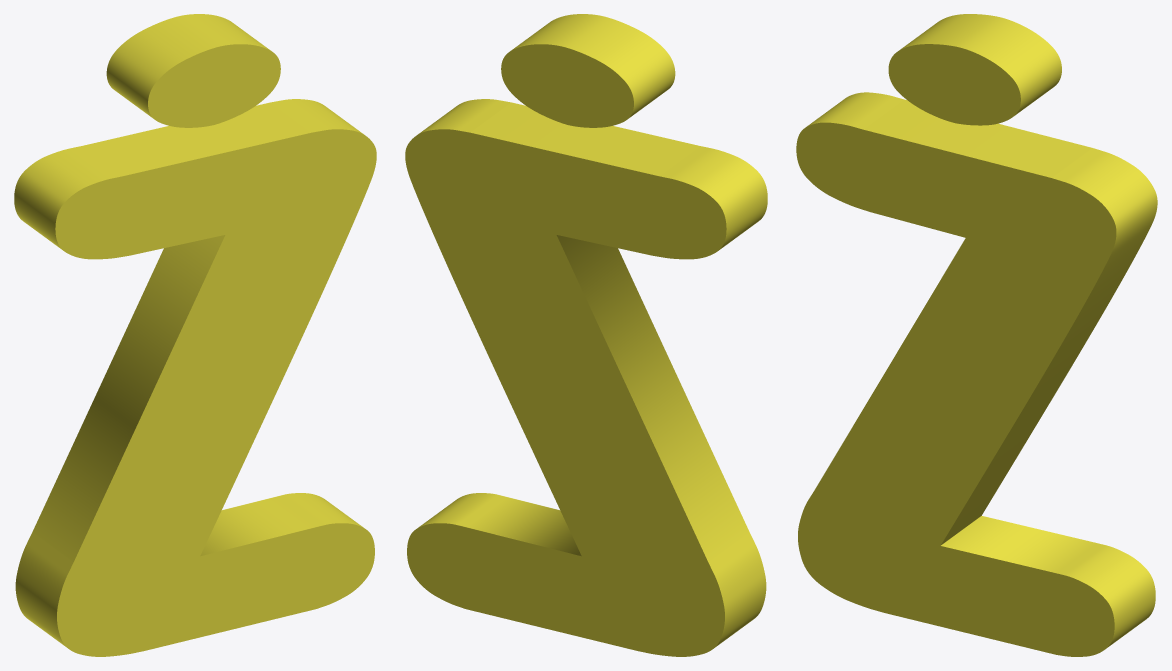
The picture shows the model from 3 angles, left to right: view 1: azimuth 30°, elevation 25°; view 2: azimuth 150°, elevation 25°; view 3: azimuth 330°, elevation 25°; orthographic projection.
Parts seen in each view (by area): view 1: Text.002; view 2: Text.002; view 3: Text.002.
Part boxes in pixels (bbox=[...]): Text.002: bbox=[14, 14, 376, 656]; Text.002: bbox=[405, 14, 767, 656]; Text.002: bbox=[796, 14, 1157, 656].
Bounding box in the file's own units: 2.15 × 3.75 × 0.4791.
